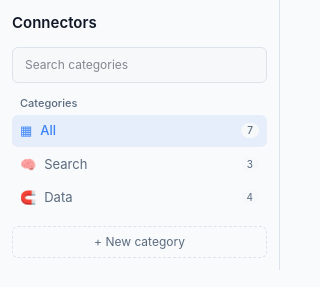
Scenario: ConnectorCategoryPanel › typing in the search input filters the category rows by name
The image size is (320, 287).
Type "sear" into the field labelled "Search categories" at (140, 64), box left=12, top=46, right=267, bottom=82
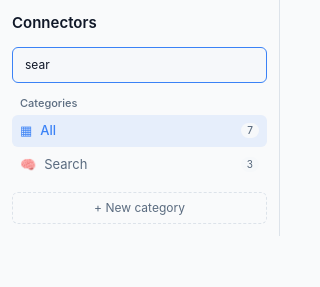
Expected: the text "Search" is shown, left=44, top=156, right=87, bottom=172
Result: the button "Data" is gone
